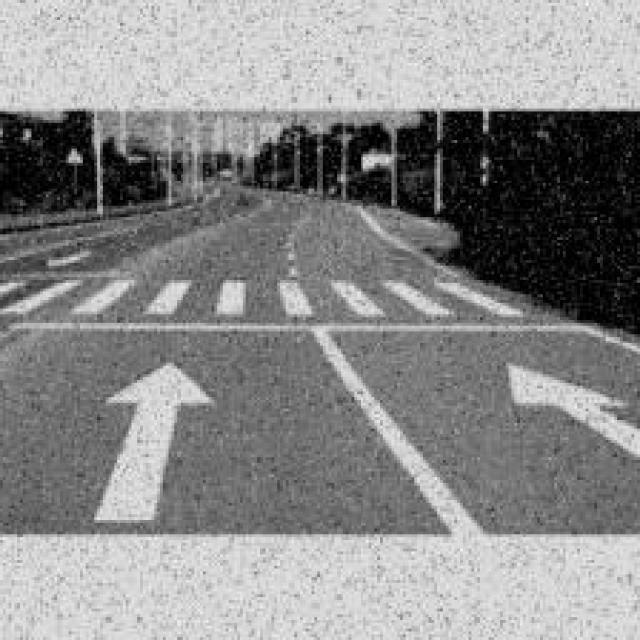crosswalk: (2, 264, 531, 326)
